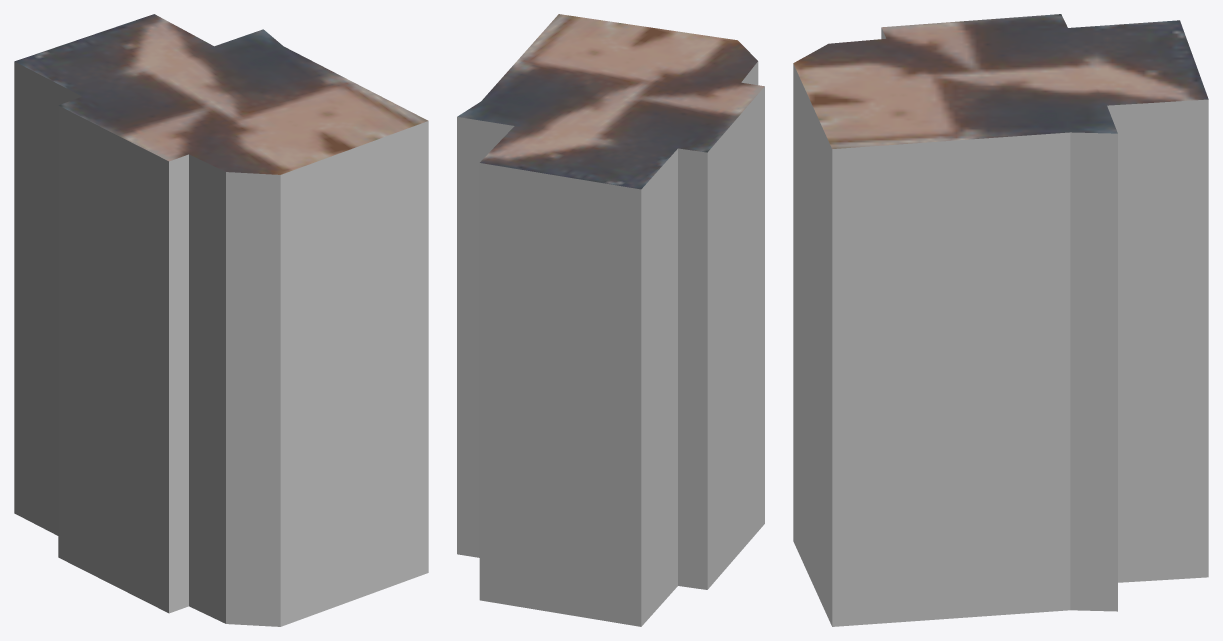
Rendered from DEBW_0010007Tvjg.gltf.
3 views of the same model, side by side, from view 1: azimuth 30°, elevation 25°; view 2: azimuth 150°, elevation 25°; view 3: azimuth 270°, elevation 25° (orthographic). The views are drawn at different scales.
Parts seen in each view (by area): view 1: Z_UP; view 2: Z_UP; view 3: Z_UP.
Part boxes in pixels (bbox=[...]): Z_UP: bbox=[14, 14, 428, 626]; Z_UP: bbox=[457, 14, 764, 626]; Z_UP: bbox=[793, 14, 1208, 626].
Bounding box in the file's own units: 12.23 × 20.17 × 15.89.
Materials: 2 (1 with a texture image).
